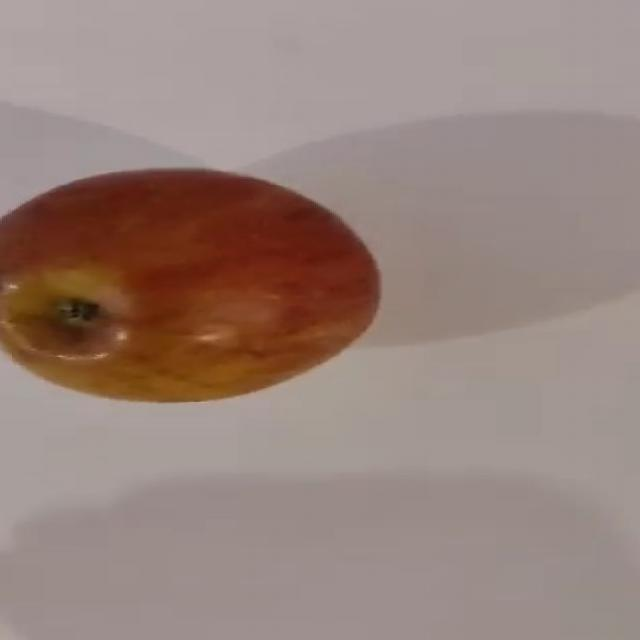Apple: (0, 165, 381, 403)
